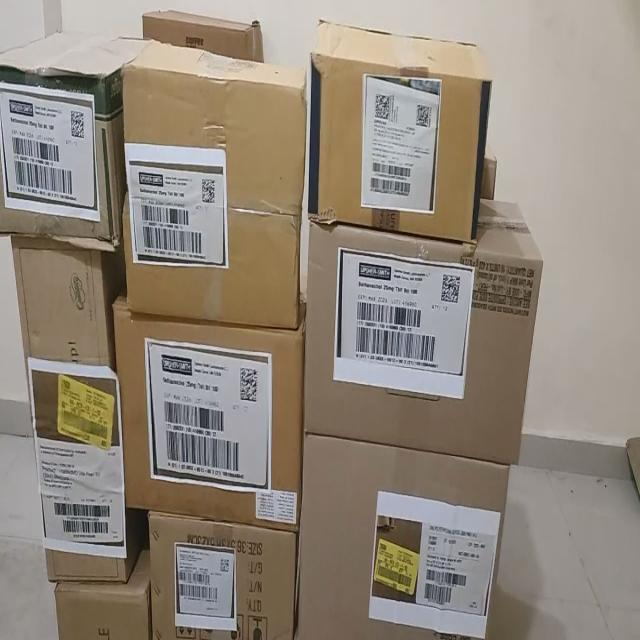BoxFace: (303, 196, 543, 465), (121, 26, 307, 329), (112, 292, 306, 530), (0, 232, 128, 590), (296, 431, 512, 638), (306, 18, 494, 244), (0, 9, 120, 250), (147, 509, 298, 638)
